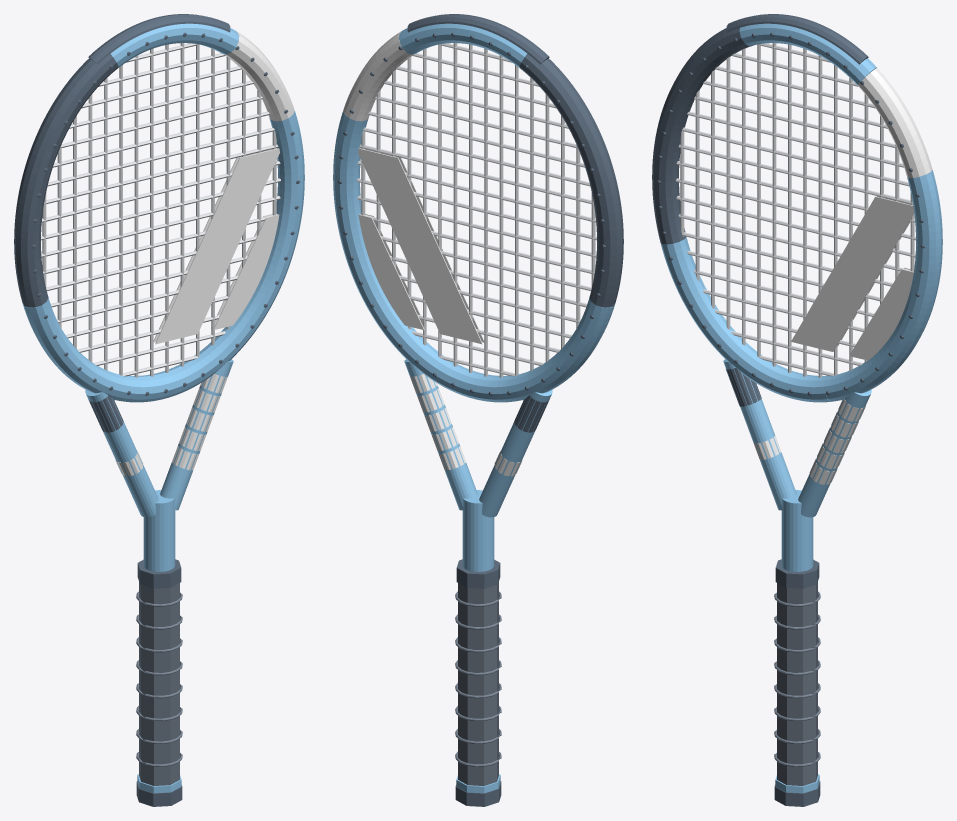
Rendered from babolat-pure-drive-lite.glb.
3 renders of one model, left to right at view 1: azimuth 30°, elevation 25°; view 2: azimuth 150°, elevation 25°; view 3: azimuth 330°, elevation 25°, orthographic.
Parts seen in each view (by area): view 1: strings, frame, stencil, frame_black, handle, frame_white, throat, shaft, wraps, collar, grommets, cap; view 2: strings, frame, stencil, frame_black, handle, frame_white, throat, shaft, wraps, collar, grommets, cap; view 3: strings, frame, stencil, frame_black, handle, frame_white, throat, shaft, wraps, collar, grommets, cap.
Part boxes in pixels (x1=…): strings: x1=41, y1=43, x2=280, y2=377; frame: x1=23, y1=23, x2=304, y2=402; stencil: x1=153, y1=148, x2=279, y2=344; frame_black: x1=14, y1=14, x2=230, y2=432; handle: x1=139, y1=582, x2=179, y2=785; frame_white: x1=115, y1=31, x2=294, y2=476; throat: x1=85, y1=359, x2=233, y2=517; shaft: x1=143, y1=490, x2=175, y2=571; wraps: x1=136, y1=591, x2=182, y2=766; collar: x1=137, y1=559, x2=181, y2=588; grommets: x1=32, y1=32, x2=299, y2=395; cap: x1=136, y1=781, x2=182, y2=806; strings: x1=357, y1=43, x2=596, y2=377; frame: x1=333, y1=23, x2=614, y2=402; stencil: x1=358, y1=148, x2=484, y2=344; frame_black: x1=407, y1=14, x2=623, y2=432; handle: x1=458, y1=582, x2=498, y2=785; frame_white: x1=343, y1=31, x2=522, y2=476; throat: x1=404, y1=359, x2=552, y2=517; shaft: x1=462, y1=490, x2=494, y2=571; wraps: x1=455, y1=591, x2=501, y2=766; collar: x1=456, y1=559, x2=500, y2=588; grommets: x1=338, y1=32, x2=605, y2=395; cap: x1=455, y1=781, x2=501, y2=806; strings: x1=675, y1=43, x2=915, y2=377; frame: x1=660, y1=23, x2=942, y2=402; stencil: x1=791, y1=196, x2=914, y2=360; frame_black: x1=652, y1=14, x2=868, y2=406; handle: x1=777, y1=582, x2=817, y2=785; frame_white: x1=753, y1=68, x2=932, y2=484; throat: x1=723, y1=359, x2=871, y2=517; shaft: x1=781, y1=490, x2=813, y2=571; wraps: x1=774, y1=591, x2=820, y2=766; collar: x1=775, y1=559, x2=819, y2=588; grommets: x1=657, y1=32, x2=924, y2=395; cap: x1=774, y1=781, x2=820, y2=806.
Size of the model in its own units: 0.272 by 0.7055 by 0.039.
